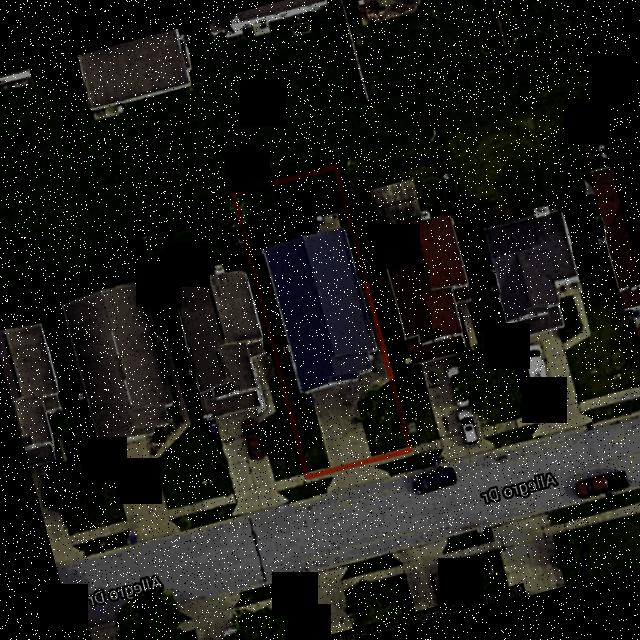Driveway: (309, 349, 386, 465)
Extra Driveway: (326, 463, 388, 491)
Extra Lawn: (370, 455, 412, 474), (306, 478, 329, 495)
House: (260, 226, 376, 391)
Other: (315, 211, 340, 231)
